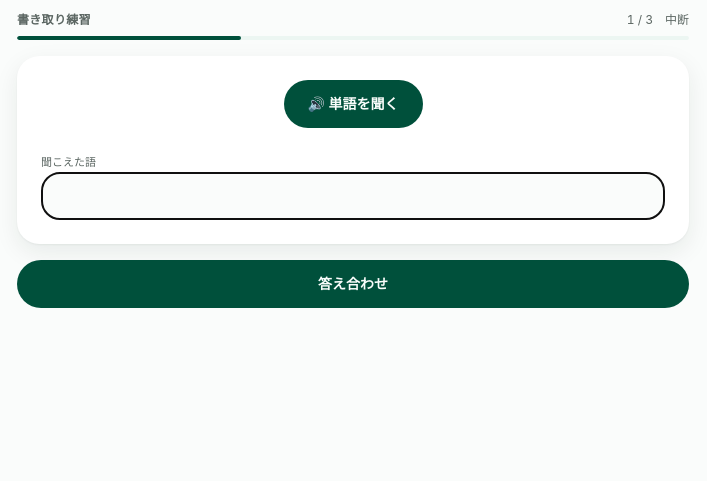
Test: DictationSession — the IME Enter key › marks the answer on the Enter that follows compositionend
Type "ちょっと" into the field labelled "聞こえた語" at [353, 196], box [41, 172, 665, 220]
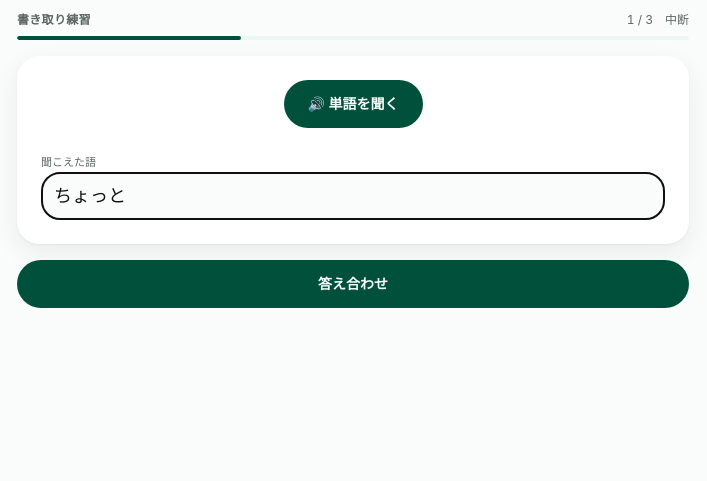
Press Enter in the field labelled "聞こえた語", box [41, 172, 665, 220]
Press Enter in the field labelled "聞こえた語", box [41, 172, 665, 220]
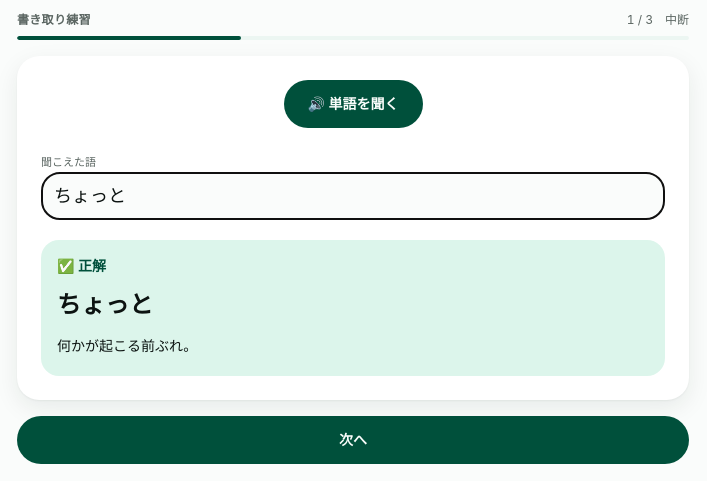
Result: the text "✅ 正解" is shown at [57, 257, 106, 274]
